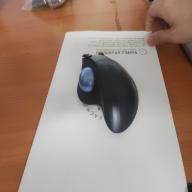mouse: (76, 51, 138, 134)
